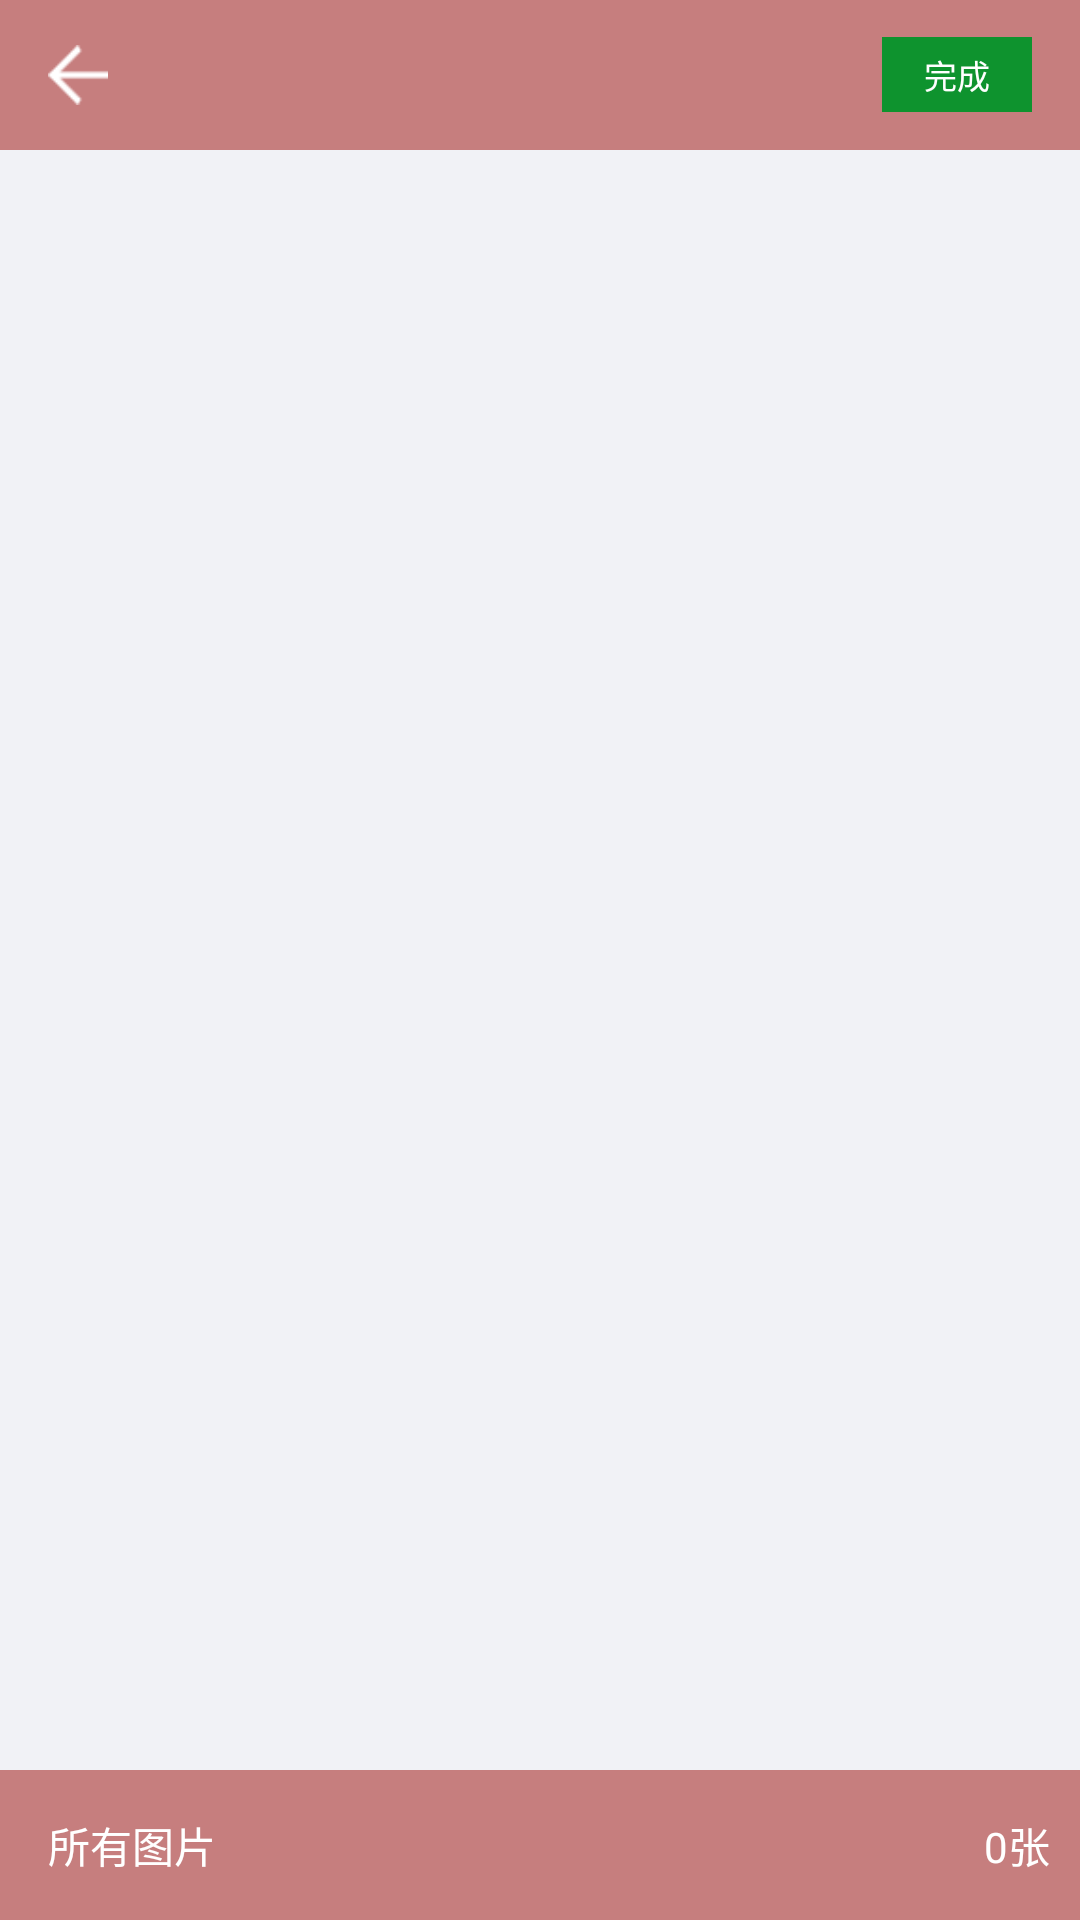

Named icons in this screenshot (1080px×1920px) and their centers, (x,y):
reback: (78,75)
